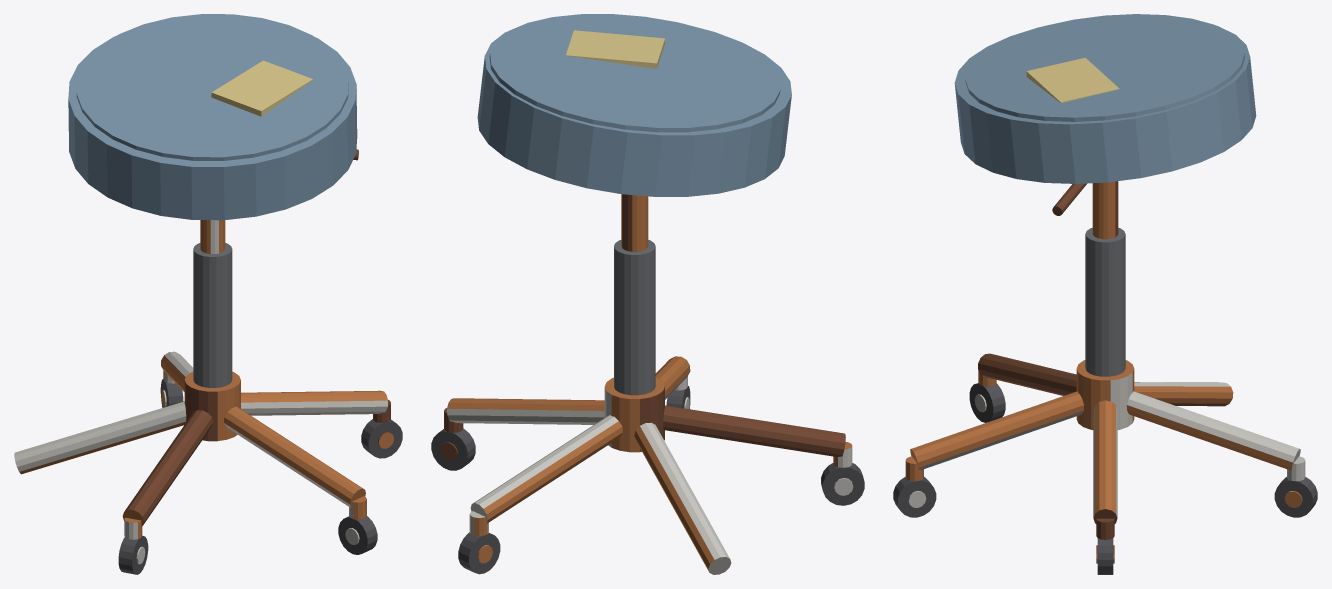
Rendered from chair_v2.fbx.
The picture shows the model from 3 angles, left to right: view 1: azimuth 30°, elevation 25°; view 2: azimuth 150°, elevation 25°; view 3: azimuth 270°, elevation 25°; orthographic projection. The views are drawn at different scales.
Parts seen in each view (by area): view 1: 04_SwivelStool_Damaged_Mesh; view 2: 04_SwivelStool_Damaged_Mesh; view 3: 04_SwivelStool_Damaged_Mesh.
Part boxes in pixels (bbox=[...]): 04_SwivelStool_Damaged_Mesh: bbox=[14, 14, 402, 574]; 04_SwivelStool_Damaged_Mesh: bbox=[431, 14, 864, 574]; 04_SwivelStool_Damaged_Mesh: bbox=[893, 14, 1317, 574].
Size of the model in its own units: 50.33 by 60.17 by 52.92.
